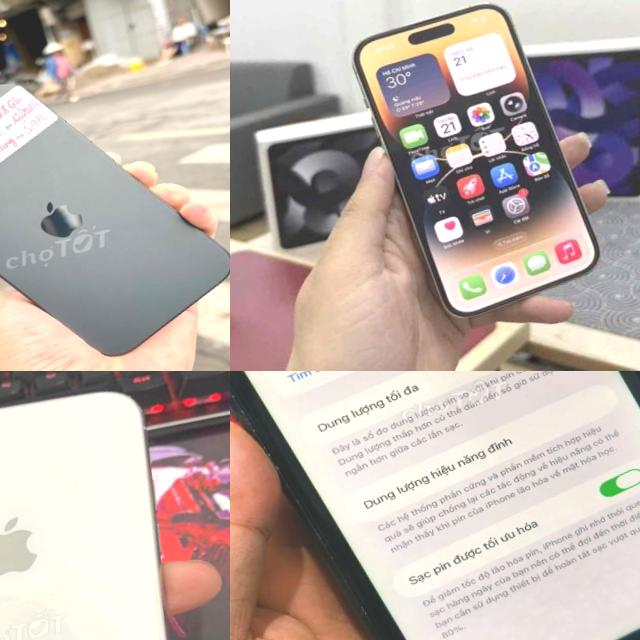gen_11: (230, 371, 640, 640)
gen_14: (338, 0, 619, 342)
gen_15: (0, 30, 230, 371)
gen_x_xs: (0, 371, 230, 640)
